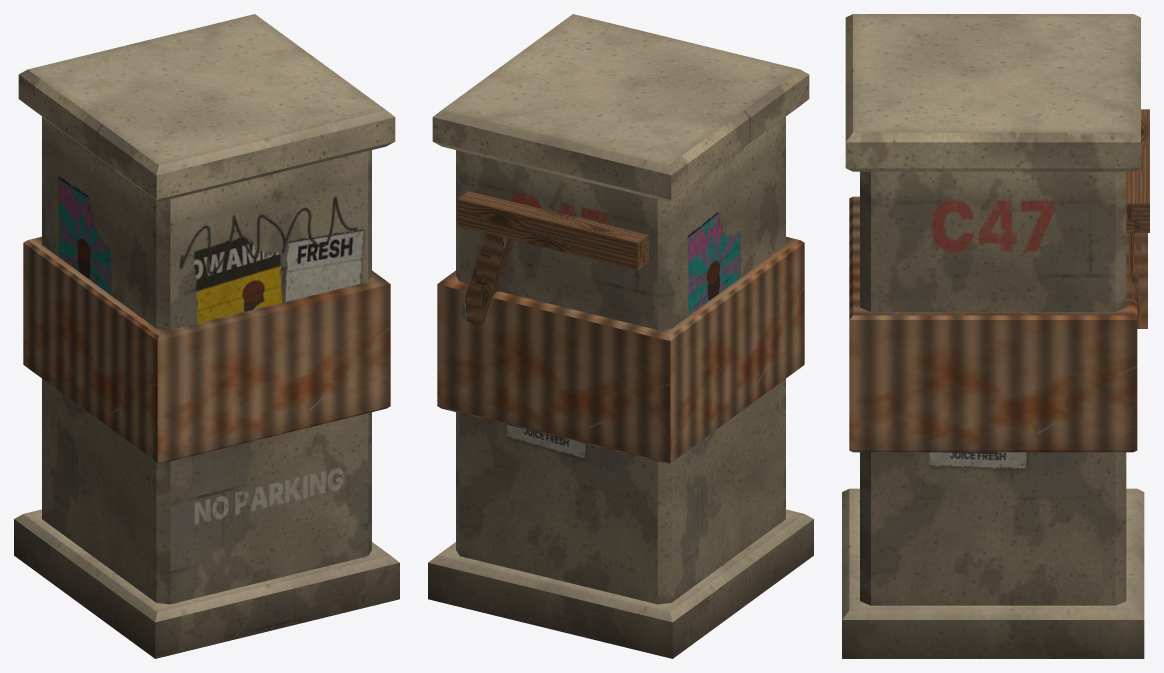
The model's file is prop_pillar_market.glb.
3 renders of one model, left to right at view 1: azimuth 30°, elevation 25°; view 2: azimuth 150°, elevation 25°; view 3: azimuth 270°, elevation 25°, orthographic. The views are drawn at different scales.
Visible parts, largest first — view 1: prop_pillar_market_body; view 2: prop_pillar_market_body; view 3: prop_pillar_market_body.
Boxes of the visible parts, <box> form: prop_pillar_market_body: <box>14,14,399,658</box>; prop_pillar_market_body: <box>428,14,813,658</box>; prop_pillar_market_body: <box>842,14,1149,658</box>.
Size of the model in its own units: 0.84 by 1.6 by 0.855.
1 material, 1 textured.
